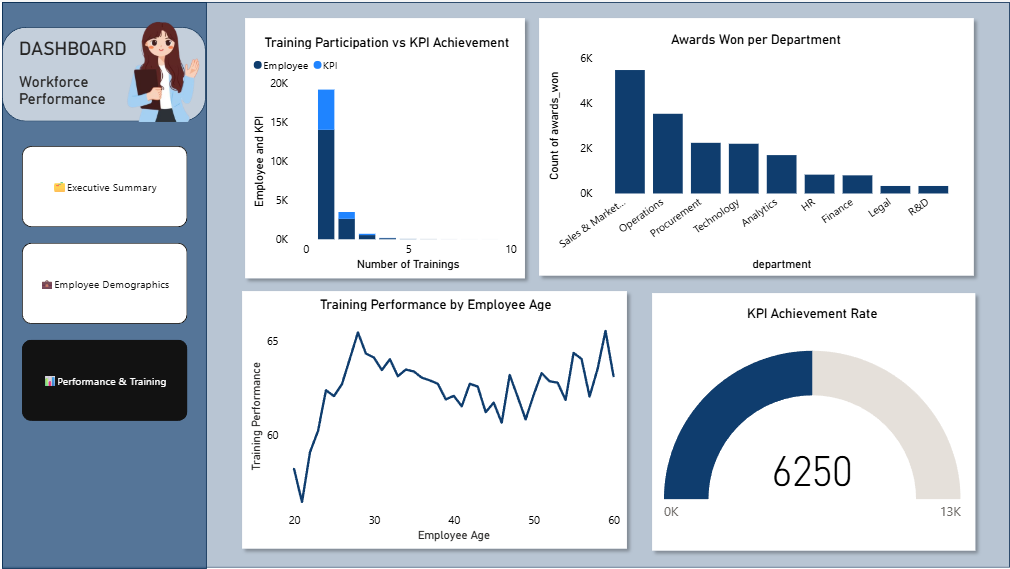

This screenshot's page, from the dashboard's own definition file:
{"tool":"powerbi","page":{"name":"📊Performance & Training","canvas":[1280,720],"ordinal":2},"visuals":[{"type":"shape","box":[0,0,1280,718.3],"z":0},{"type":"shape","box":[0,0,260,720],"z":1000},{"type":"shape","box":[300,11.7,373.3,348.3],"z":2000},{"type":"columnChart","title":"Training Participation vs KPI Achievement","fields":{"Category":["Cleaned.no_of_trainings"],"Y":["CountNonNull(Cleaned.employee_id)","Sum(Cleaned.KPIs_met_more_than_80)"]},"box":[313.3,40,350,305],"z":3000},{"type":"shape","box":[673.3,11.7,570,345],"z":4000},{"type":"clusteredColumnChart","title":"Awards Won per Department","fields":{"Y":["CountNonNull(Cleaned.awards_won)"],"Category":["Cleaned.department"]},"box":[688.3,36.7,538.3,308.3],"z":5000},{"type":"shape","box":[816.7,360,428.3,345],"z":6000},{"type":"gauge","title":"KPI Achievement Rate","fields":{"Y":["Sum(Cleaned.KPIs_met_more_than_80)"],"TargetValue":["Sum(Cleaned.employee_id)"]},"box":[835,385,386.7,316.7],"z":7000},{"type":"shape","box":[296.3,357.9,506.7,345],"z":8000},{"type":"lineChart","fields":{"Category":["Cleaned.age"],"Y":["Avg(Cleaned.avg_training_score)"]},"box":[309.6,372.9,481.7,316.7],"z":9000},{"type":"pageNavigator","box":[25,183.3,210,351.7],"z":10000},{"type":"shape","box":[0,32.2,258.9,120],"z":11000},{"type":"image","box":[122.9,5.7,158.6,151.4],"z":12000},{"type":"textbox","box":[16.7,40,184.4,106.7],"z":13000}]}

Visuals, with their boxes in screenshot pixels (x1, y1, x2, y2), scaled from the page's 1280x720 canvas onto the 1010x569 screenshot:
shape: [0, 0, 1009, 568]
shape: [0, 0, 205, 568]
shape: [237, 9, 531, 284]
"Training Participation vs KPI Achievement" columnChart: [247, 32, 523, 273]
shape: [531, 9, 981, 282]
"Awards Won per Department" clusteredColumnChart: [543, 29, 968, 273]
shape: [644, 284, 982, 557]
"KPI Achievement Rate" gauge: [659, 304, 964, 555]
shape: [234, 283, 634, 555]
lineChart - Cleaned.age x Avg(Cleaned.avg_training_score): [244, 295, 624, 545]
pageNavigator: [20, 145, 185, 423]
shape: [0, 25, 204, 120]
image: [97, 5, 222, 124]
textbox: [13, 32, 159, 116]
